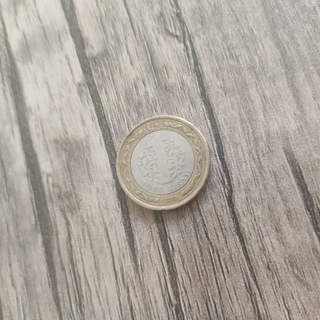1TL: (114, 112, 212, 212)
